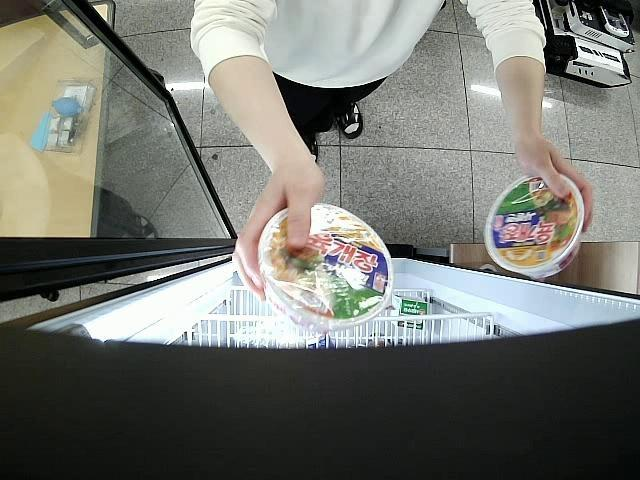09_yukGaeJang: (260, 202, 394, 328), (484, 173, 584, 280)
